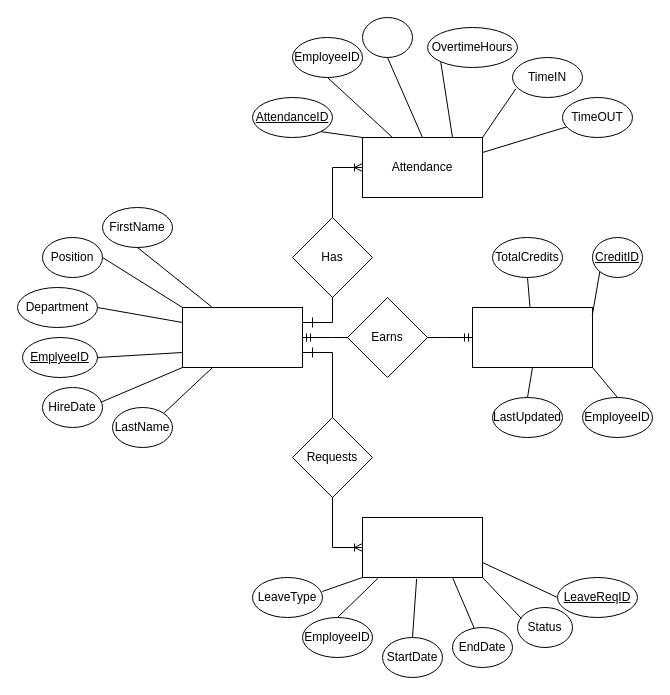
The diagram is 670 pixels wide and 695 high, and some of its shapes have lost their labels. The shapes that lost their labels are listed below. From the top down, each one's centre as x and y in pixels, then its label:
(387,37): Date
(242,337): Employees
(532,337): ServiceCredit
(422,547): LeaveReq
